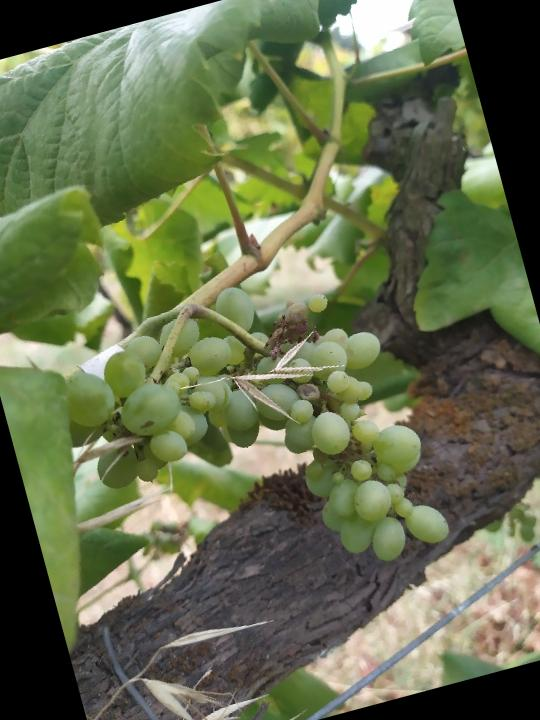grape: (58, 244, 466, 633)
